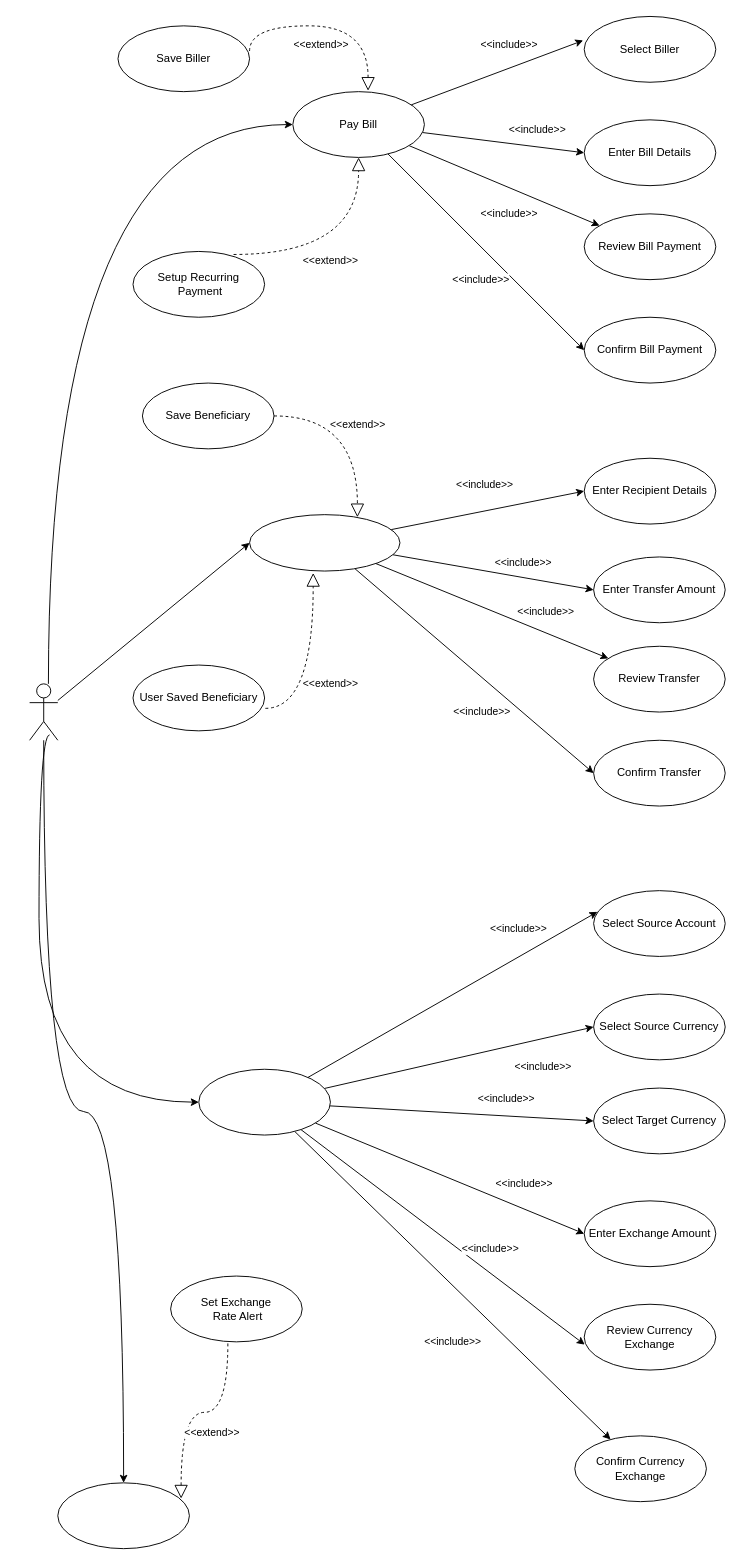
This 742x1565 diagram has some shape labels left out. The centre of each missing label's shape, as x and y in pixels:
"Bank User" goes at point 43,711.
"Exchange Currency" goes at point 264,1101.
"Initiate Transfer" goes at point 324,542.
"View Exchange Rate Table" goes at point 123,1515.
